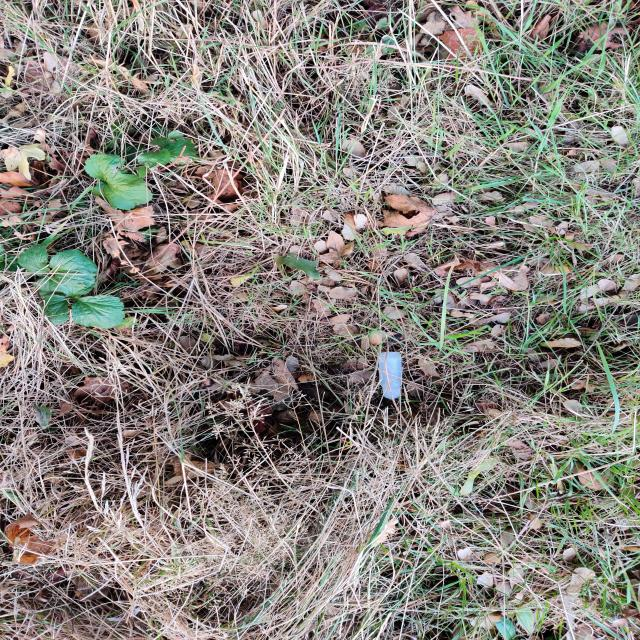litter: (379, 352, 401, 396)
